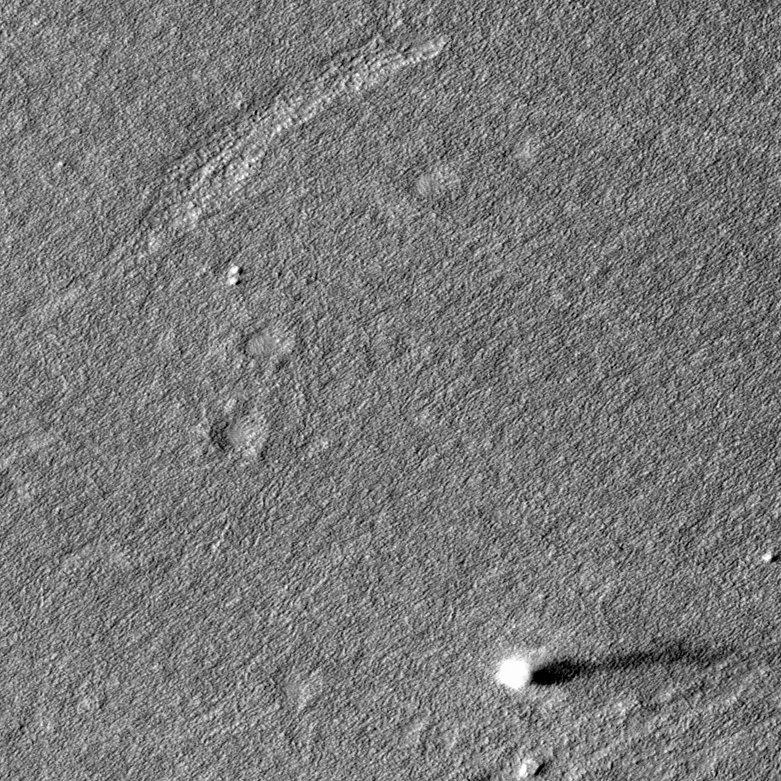dust_devil: (494, 641, 734, 693)
